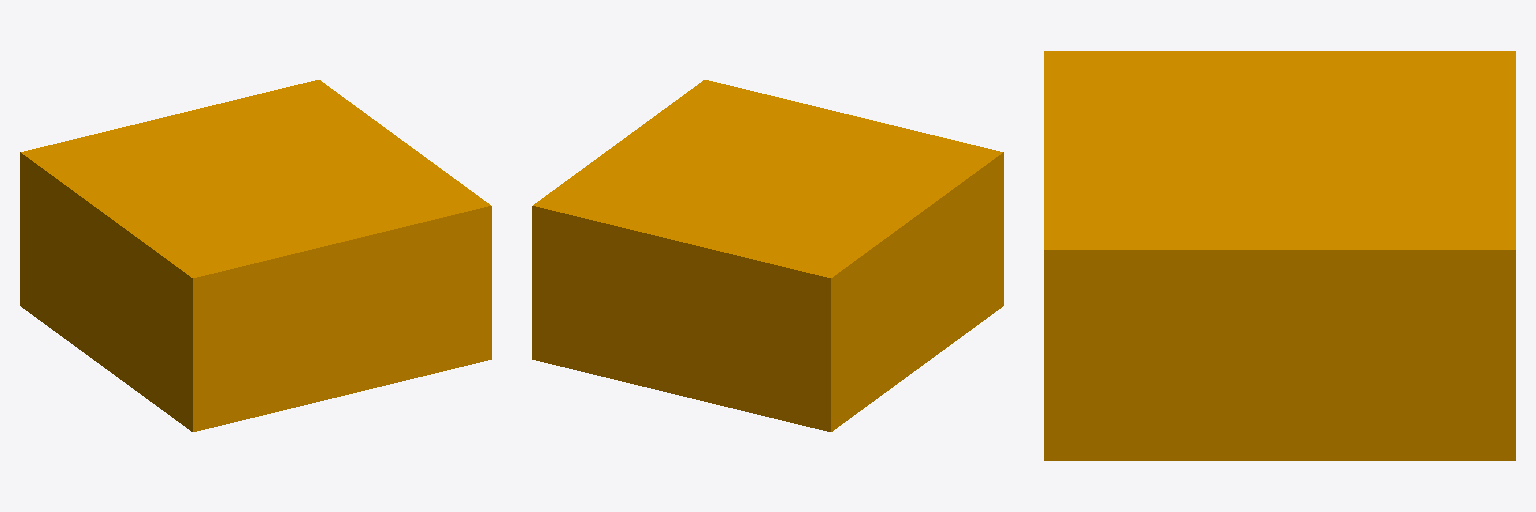
URDF robot description (2v2_test_hand_cuboid_medium):
<?xml version="1.0" ?>
<robot name="2v2_test_hand_cuboid_medium">

    <link name="2v2_test_hand_cuboid_medium">
        <visual>
            <origin rpy="1.5707963267948966 0 0" xyz="0 0 0"/>
            <geometry>
                <mesh filename="obj_files/2v2_test_hand_cuboid_medium.obj" scale="1 1 1"/>
            </geometry>
        </visual>
        <collision>
            <geometry>
                <mesh filename="obj_files/2v2_test_hand_cuboid_medium_collision.obj" scale="1 1 1"/>
            </geometry>
        </collision>
    </link>

</robot>

--- Facts derived from the render (not from the file) ---
Views: 3 orthographic renders of the robot side by side, from view 1: azimuth 30°, elevation 25°; view 2: azimuth 150°, elevation 25°; view 3: azimuth 270°, elevation 25°.
Model 2v2_test_hand_cuboid_medium with 1 links and 0 joints (none), rooted at 2v2_test_hand_cuboid_medium, posed all joints at 0.
Visible links, largest first — view 1: 2v2_test_hand_cuboid_medium; view 2: 2v2_test_hand_cuboid_medium; view 3: 2v2_test_hand_cuboid_medium.
Boxes of the visible links, <box> form: 2v2_test_hand_cuboid_medium: <box>20,80,491,431</box>; 2v2_test_hand_cuboid_medium: <box>532,80,1003,431</box>; 2v2_test_hand_cuboid_medium: <box>1044,51,1515,460</box>.
Size in the robot's own frame: 0.1217 by 0.1217 by 0.06 metres.
Meshes: 1 distinct files referenced, 1 mesh visuals loaded (1 OBJ).